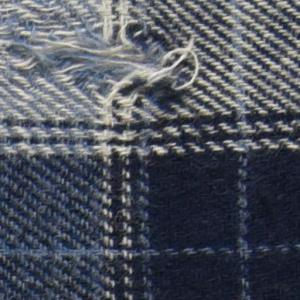Damage: (1, 2, 207, 134)
